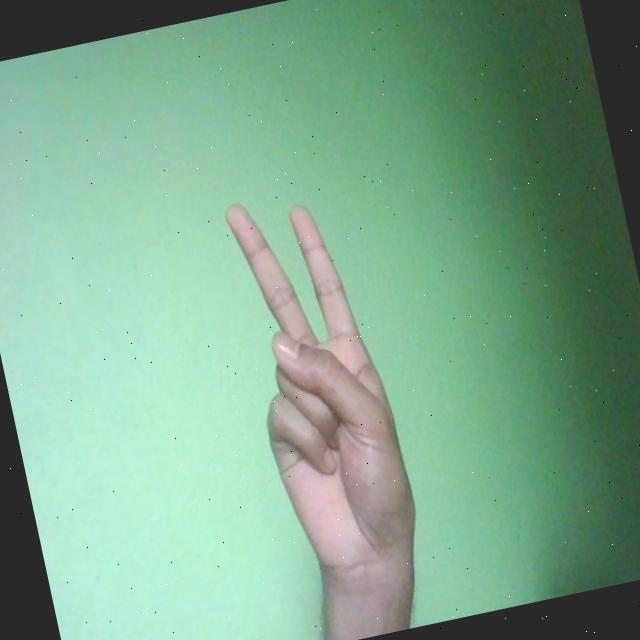Fist: (218, 177, 427, 586)
